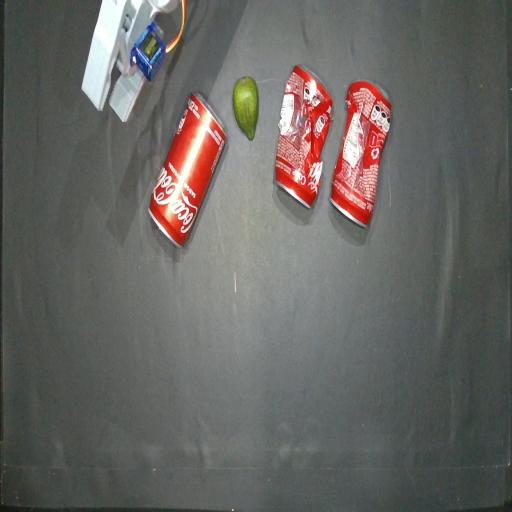higo: (233, 77, 258, 140)
lata: (148, 92, 226, 247)
lata_defectuoso: (330, 81, 391, 227), (275, 66, 333, 208)
